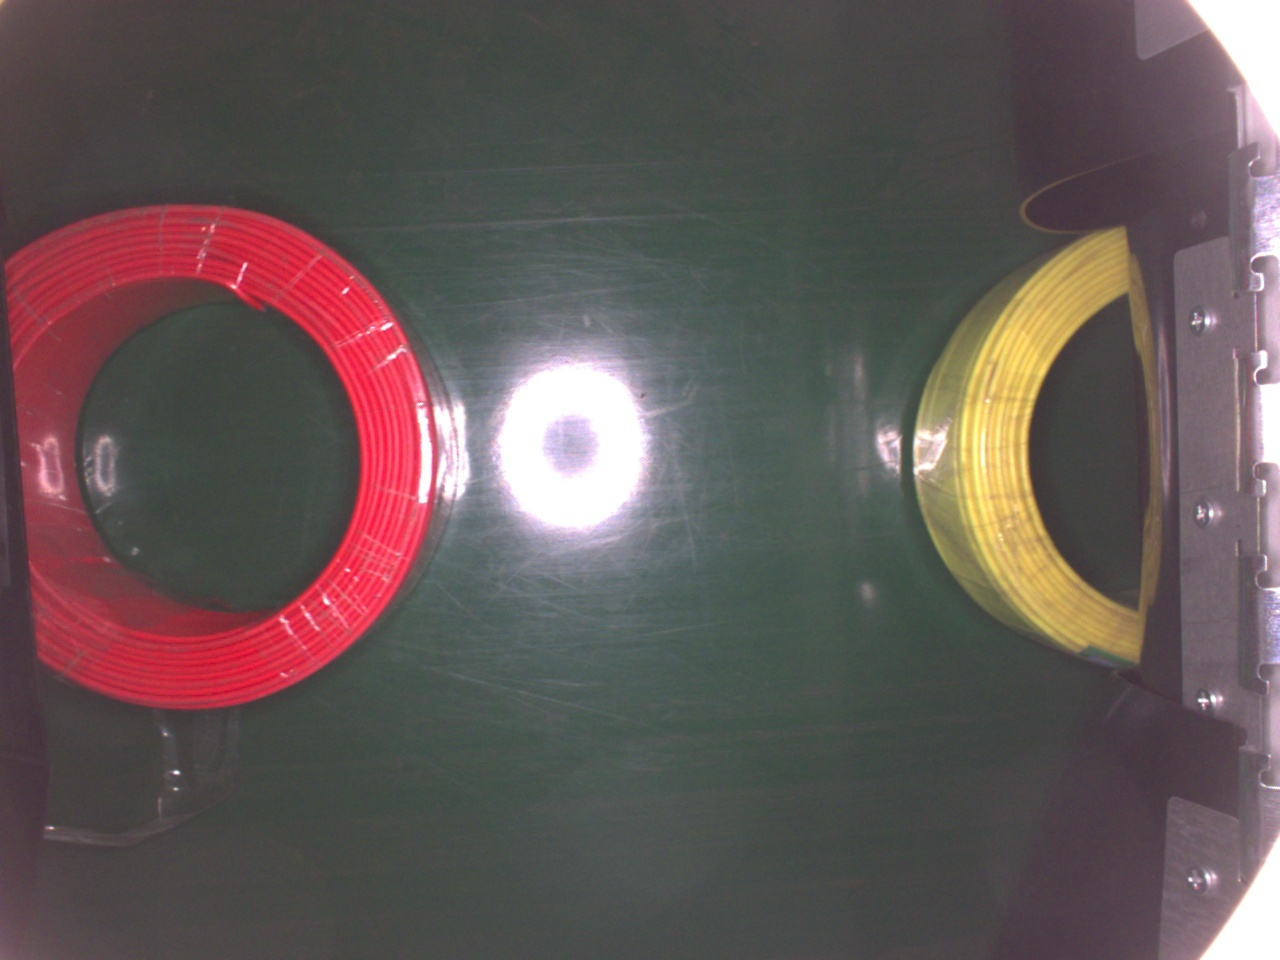red: (0, 198, 460, 709)
yellow: (910, 226, 1162, 674)
